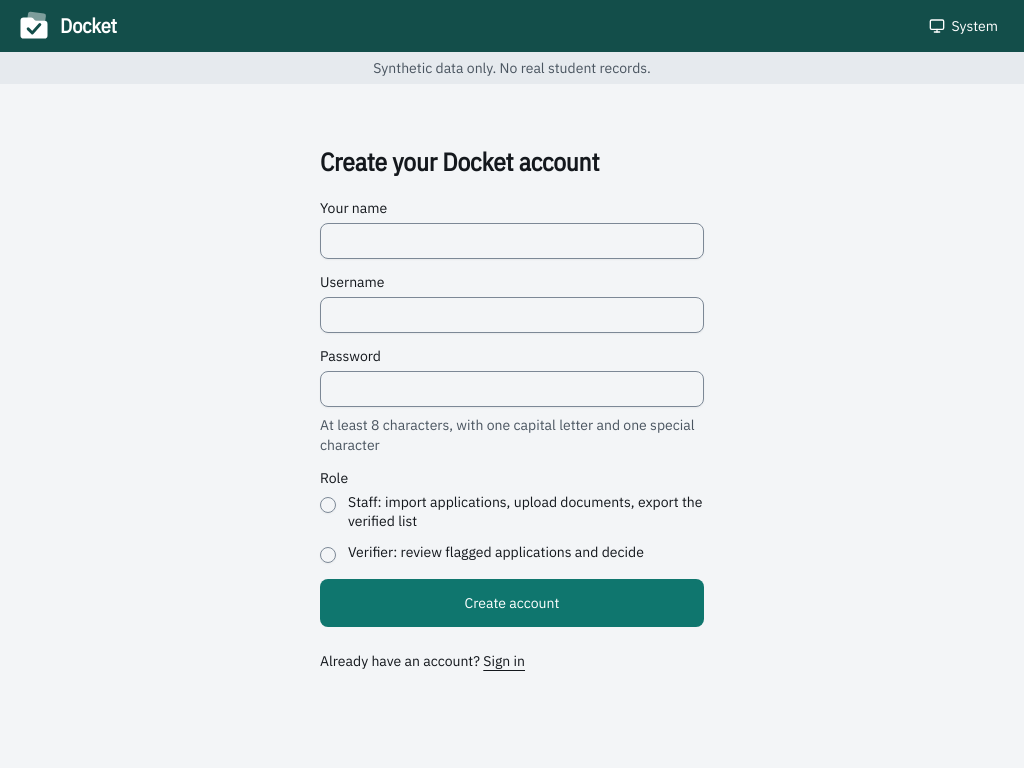
Scenario: signing up › names the password rule on a 422: password must contain a capital letter
This screenshot has width=1024, height=768.
In the field labelled "Your name": (512, 241) left=320, top=223, right=704, bottom=259, type "Asha Kumar"
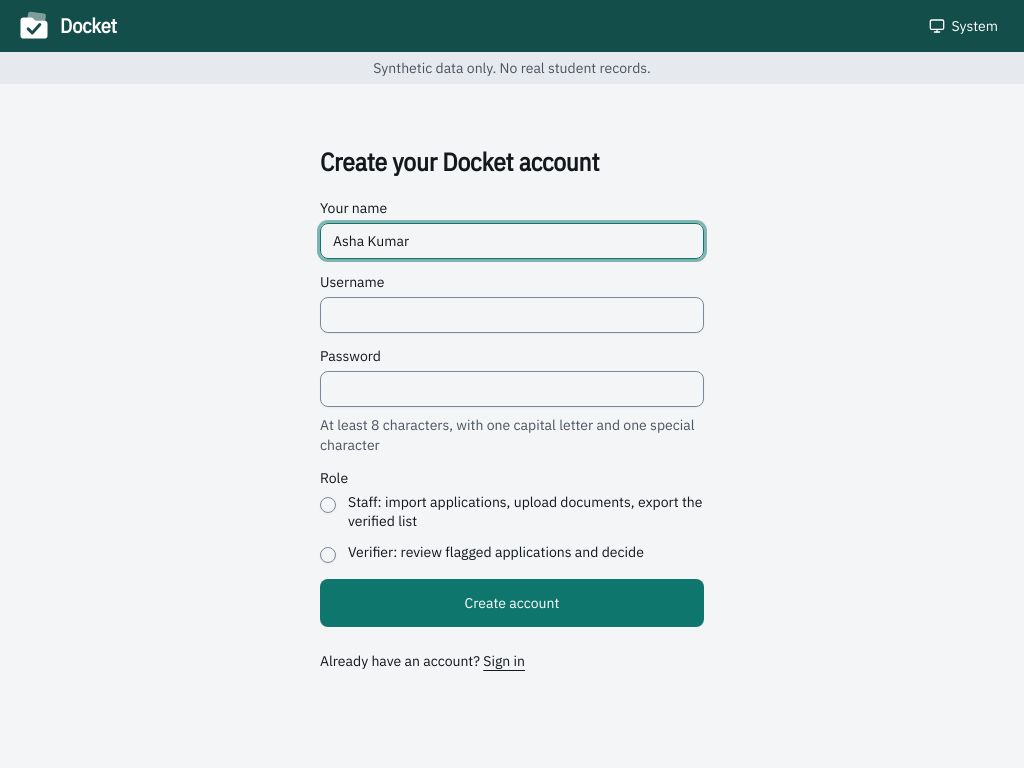
In the field labelled "Username": (512, 315) left=320, top=297, right=704, bottom=333, type "asha.k"
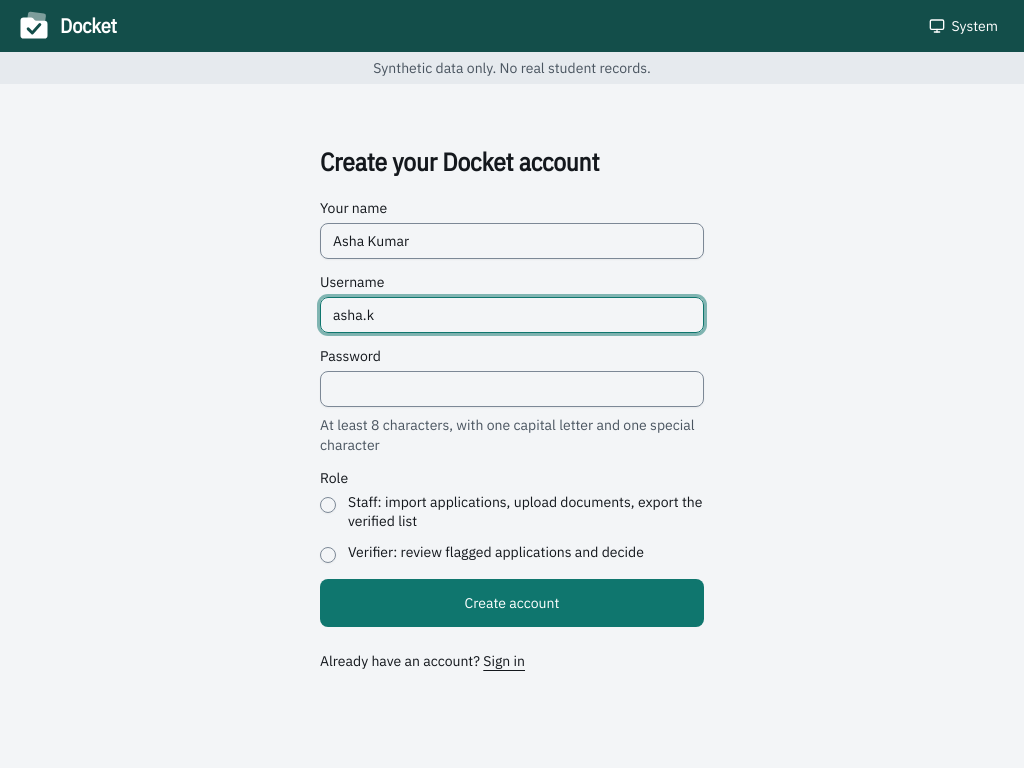
In the password field labelled "Password": (512, 389) left=320, top=371, right=704, bottom=407, type "A-long-phrase-1"
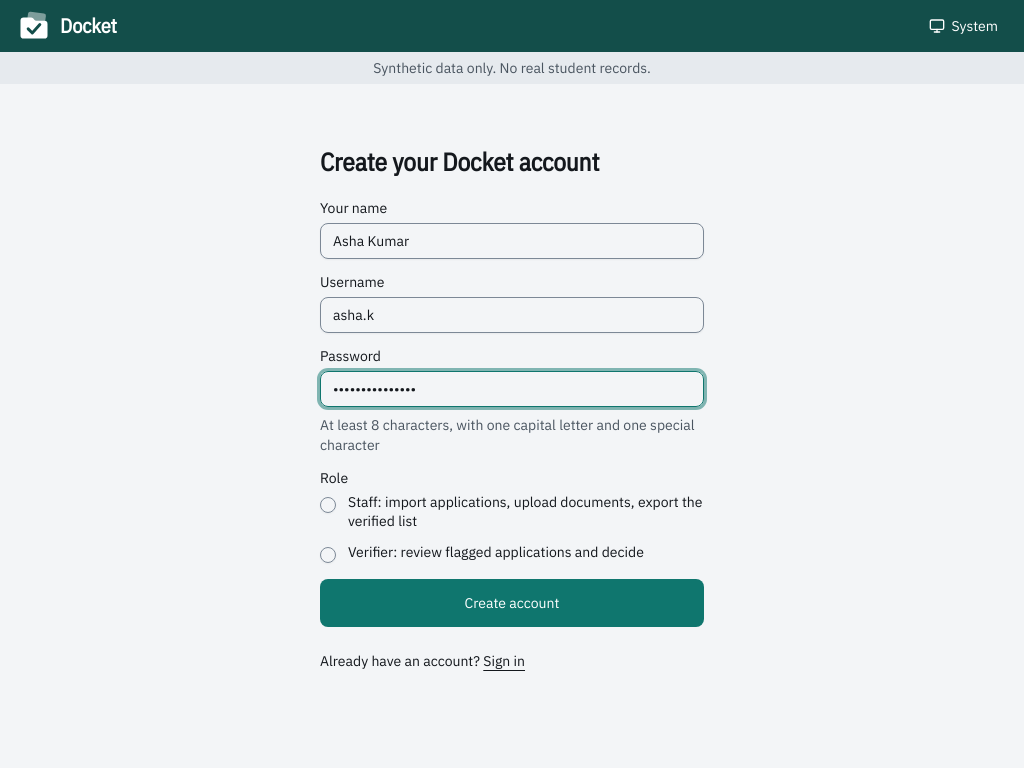
Click the 1st radio button named "Staff": (328, 505) left=320, top=497, right=336, bottom=513
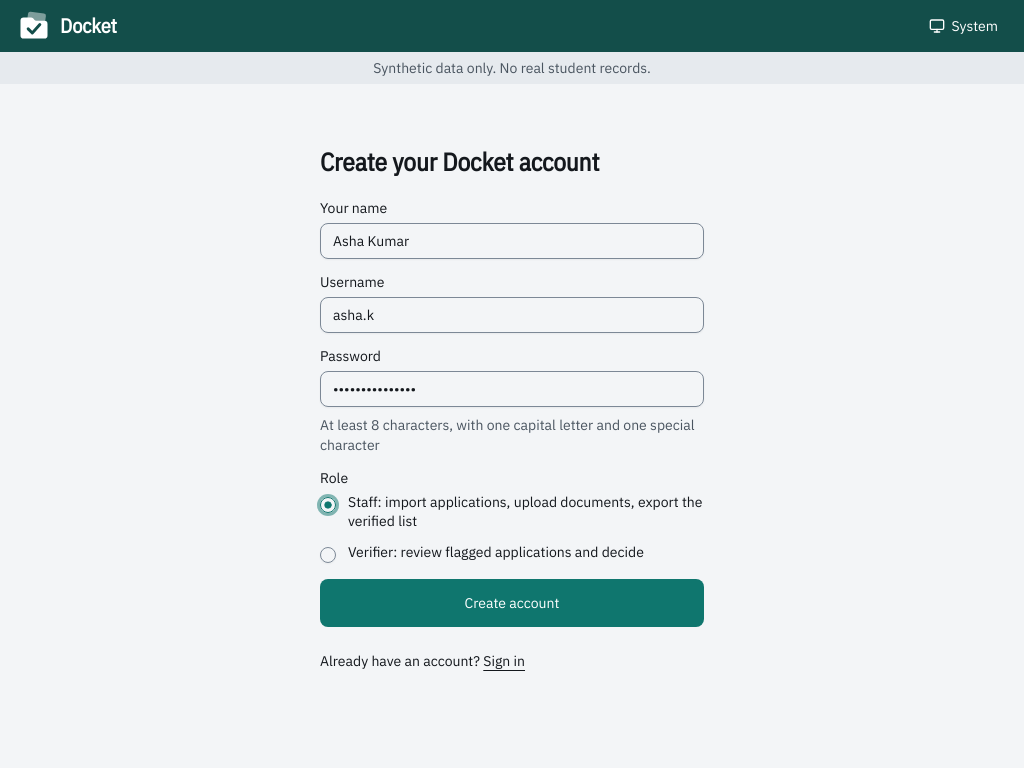
Click the button "Create account": (512, 603) left=320, top=579, right=704, bottom=627
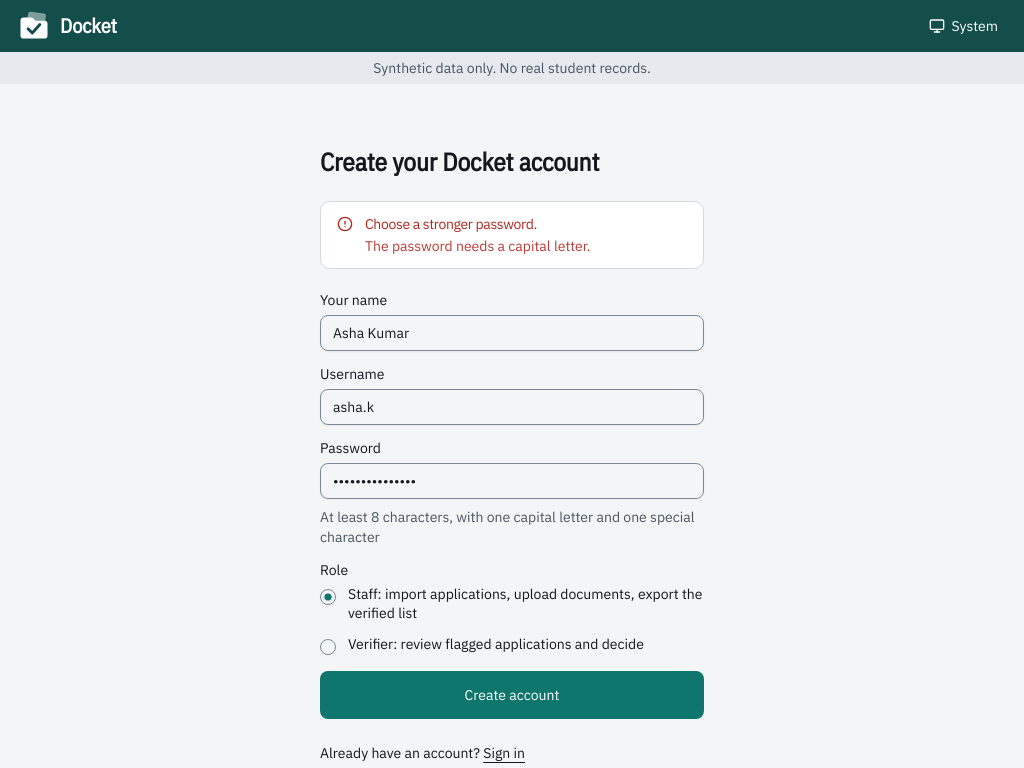
Result: the text "The password needs a capital letter." is shown at left=365, top=237, right=591, bottom=255
